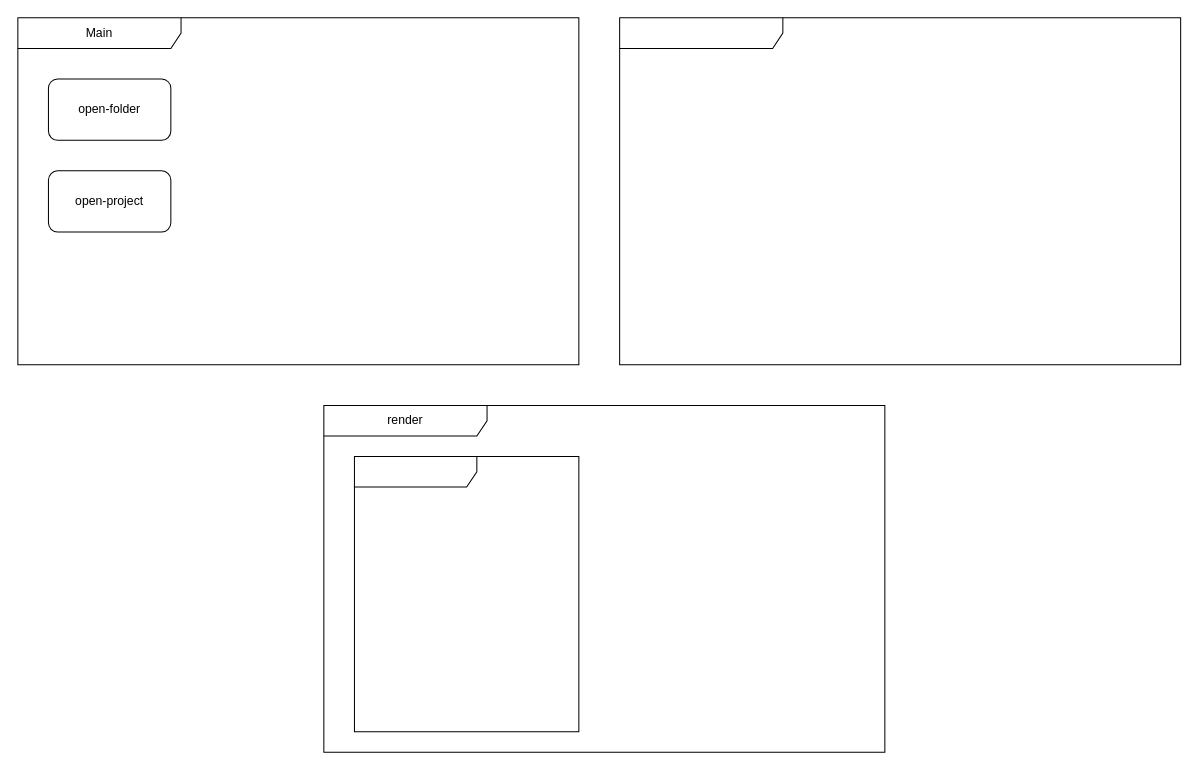
Image size: 1199x770. Some labels were removed from this diagram. The shapes that lost their labels are listed below. From the top down, each one's centre as x and y in pixels, then its label:
At point (900, 191): "preload".
At point (466, 593): "OpenProject".
